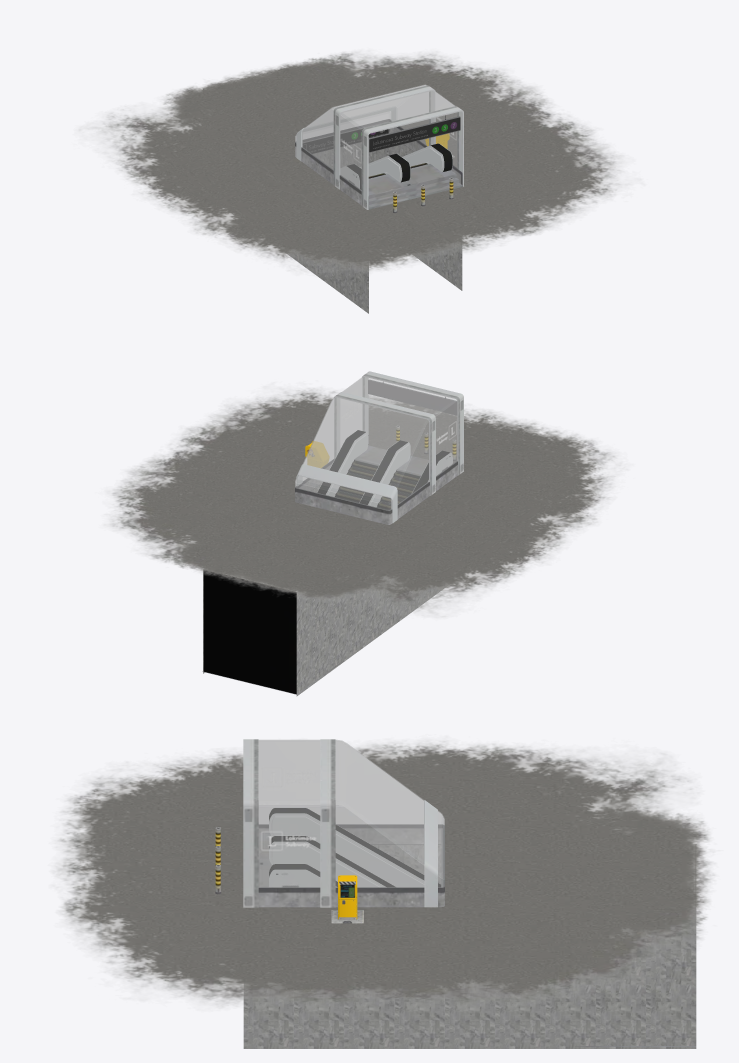
The model's file is entrance.glb.
3 renders of one model, top to bottom at view 1: azimuth 30°, elevation 25°; view 2: azimuth 150°, elevation 25°; view 3: azimuth 270°, elevation 25°, orthographic. The views are drawn at different scales.
Parts seen in each view (by area): view 1: Ground, Glass, Wall, Opora_low, Steps_low, Fundament, Screens_low.001, Screens_low.003, HandlerLeft_low.001, Handler_Center_low, Opora_low.001; view 2: Ground, Glass, Black, Wall, Opora_low, Fundament, Opora_low.001, Auto_Steps_low, Screens_low.001, Steps_low, Handler_Center_low, HandlerLeft_low.001; view 3: Ground, Wall, Glass, Opora_low, Fundament, HandlerLeft_low.001, Handler_Center_low, Opora_low.001, HandlerLeft_low.002, rubber.003, Steps_low, rubber.001.
Part boxes in pixels (x1=…): Ground: x1=78, y1=51, x2=629, y2=274; Glass: x1=295, y1=84, x2=457, y2=190; Wall: x1=232, y1=142, x2=462, y2=313; Opora_low: x1=333, y1=85, x2=463, y2=209; Steps_low: x1=368, y1=164, x2=462, y2=209; Fundament: x1=295, y1=119, x2=462, y2=209; Screens_low.001: x1=368, y1=116, x2=460, y2=152; Screens_low.003: x1=302, y1=121, x2=389, y2=153; HandlerLeft_low.001: x1=355, y1=145, x2=444, y2=172; Handler_Center_low: x1=360, y1=154, x2=410, y2=182; Opora_low.001: x1=296, y1=106, x2=396, y2=161; Ground: x1=104, y1=388, x2=627, y2=617; Glass: x1=295, y1=376, x2=457, y2=510; Black: x1=203, y1=570, x2=296, y2=694; Wall: x1=203, y1=483, x2=456, y2=696; Opora_low: x1=333, y1=371, x2=463, y2=495; Fundament: x1=295, y1=435, x2=457, y2=524; Opora_low.001: x1=296, y1=464, x2=397, y2=523; Auto_Steps_low: x1=335, y1=460, x2=420, y2=510; Screens_low.001: x1=368, y1=379, x2=457, y2=415; Steps_low: x1=355, y1=445, x2=428, y2=476; Handler_Center_low: x1=359, y1=441, x2=410, y2=506; HandlerLeft_low.001: x1=326, y1=432, x2=428, y2=496; Ground: x1=53, y1=740, x2=715, y2=1011; Wall: x1=243, y1=844, x2=696, y2=1048; Glass: x1=258, y1=739, x2=444, y2=887; Opora_low: x1=243, y1=739, x2=335, y2=907; Fundament: x1=258, y1=824, x2=444, y2=907; HandlerLeft_low.001: x1=269, y1=813, x2=424, y2=887; Handler_Center_low: x1=269, y1=835, x2=385, y2=887; Opora_low.001: x1=424, y1=800, x2=437, y2=907; HandlerLeft_low.002: x1=269, y1=807, x2=336, y2=887; rubber.003: x1=269, y1=808, x2=440, y2=887; Steps_low: x1=258, y1=833, x2=271, y2=887; rubber.001: x1=269, y1=836, x2=395, y2=887.
Size of the model in its own units: 21.7 by 8.51 by 21.7.
Materials: 3 (3 with a texture image).
